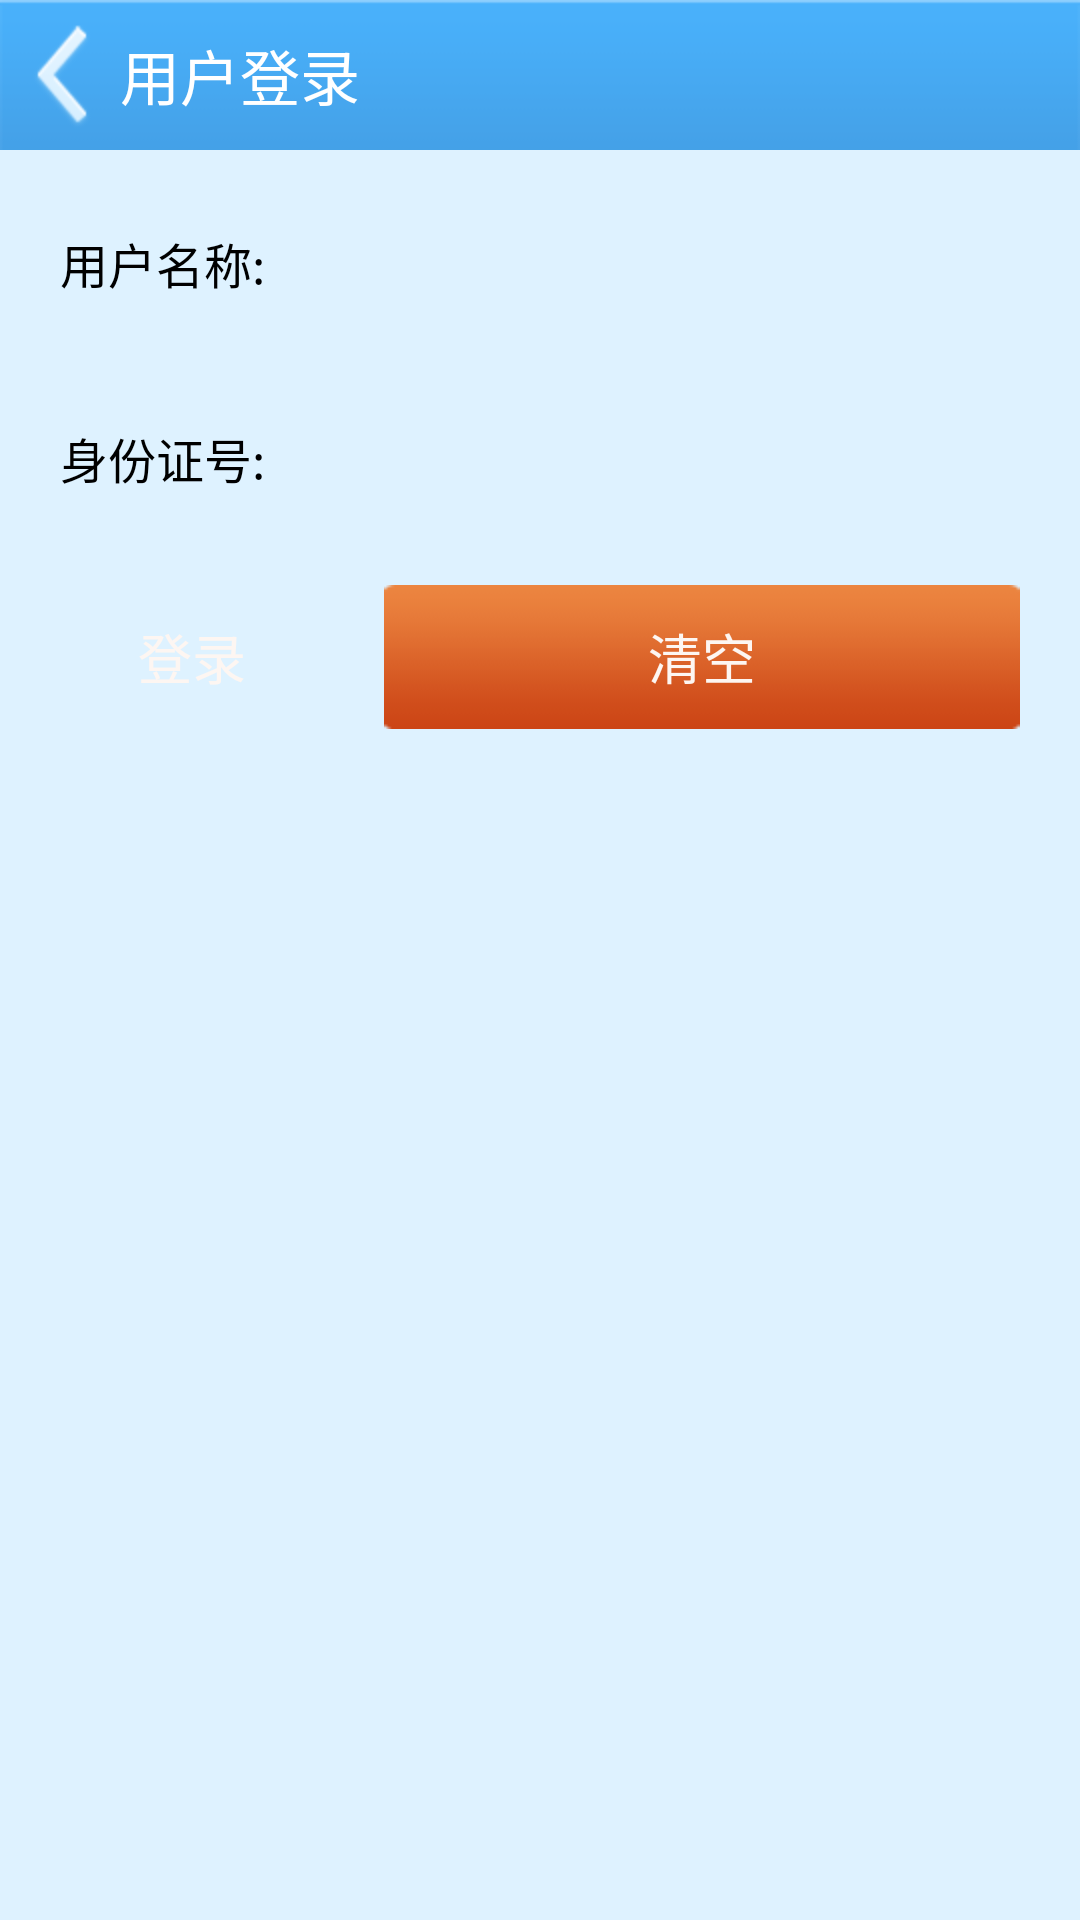

Named icons in this screenshot (1080w x 1920h) and their centers, (x,y):
返回: (60,75)
